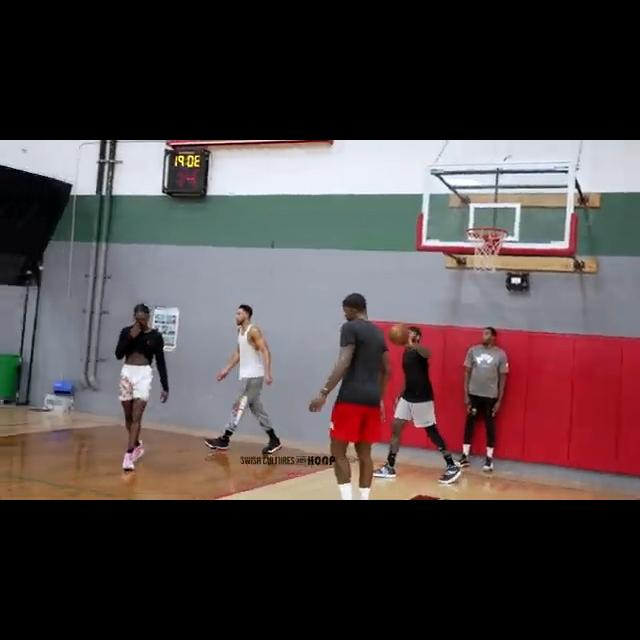basketball: (388, 322, 411, 345)
hoop: (466, 227, 509, 277)
person: (311, 291, 389, 500), (203, 302, 287, 461), (389, 323, 456, 485), (117, 305, 171, 472), (459, 327, 509, 476)
